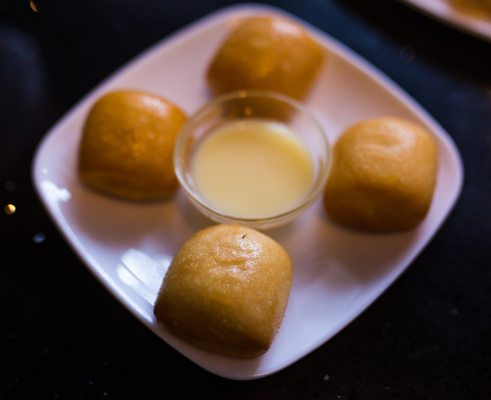pizza: (173, 88, 330, 232)
